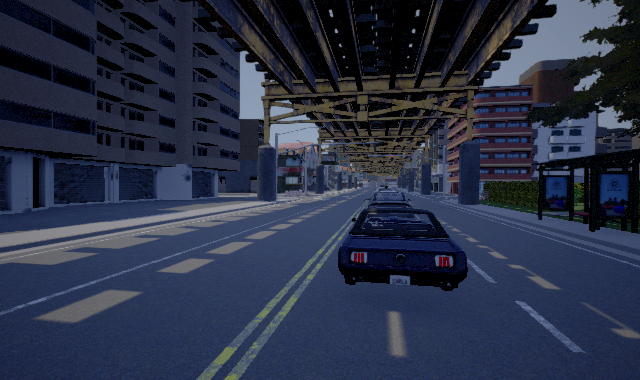traffic_light: (410, 155, 412, 161), (391, 156, 393, 161)
vehicle: (338, 205, 468, 291), (369, 189, 412, 223)
